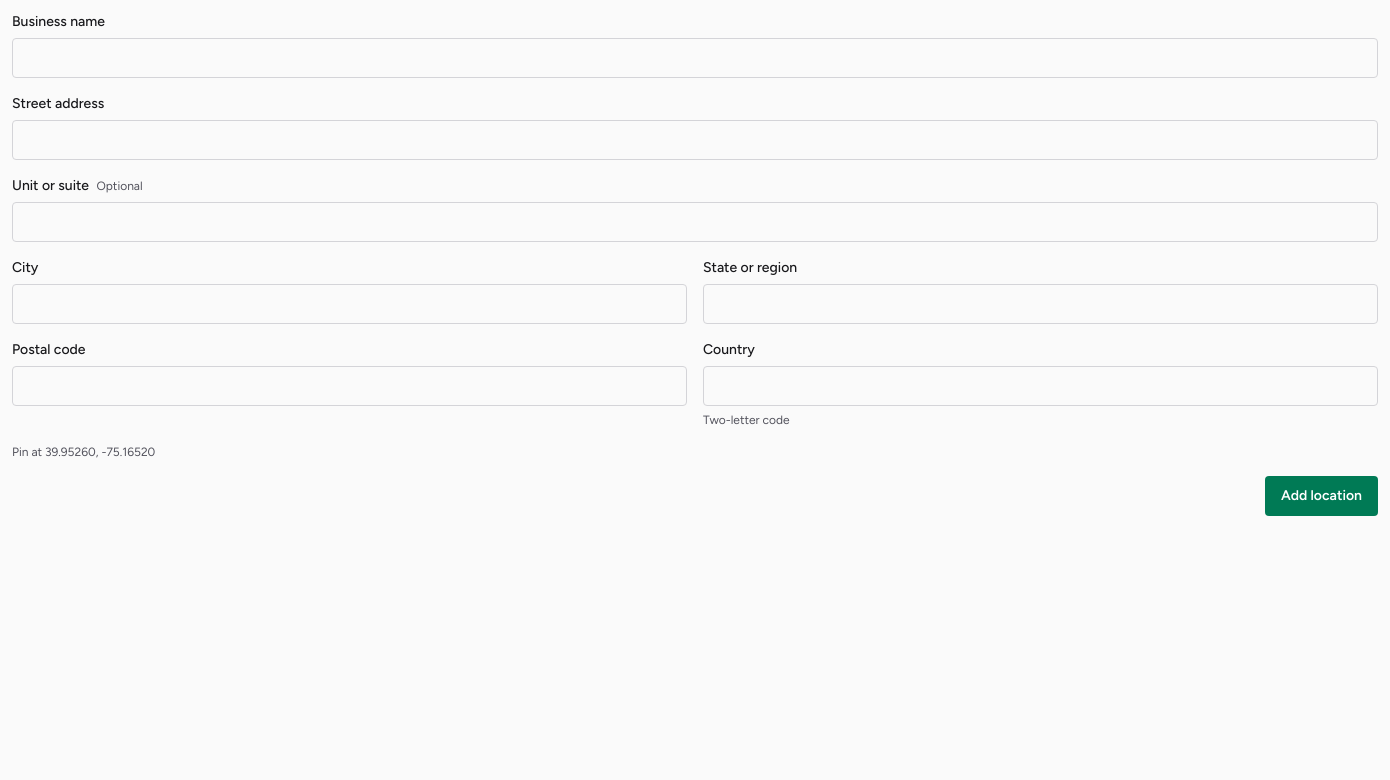
Test: surfaces a rejected submission as an error message
The width and height of the screenshot is (1390, 780).
What coordinates should you click on to do the following:
click the button "Add location"
I would click on:
 (1322, 496)
Its box is [1265,476,1378,516].
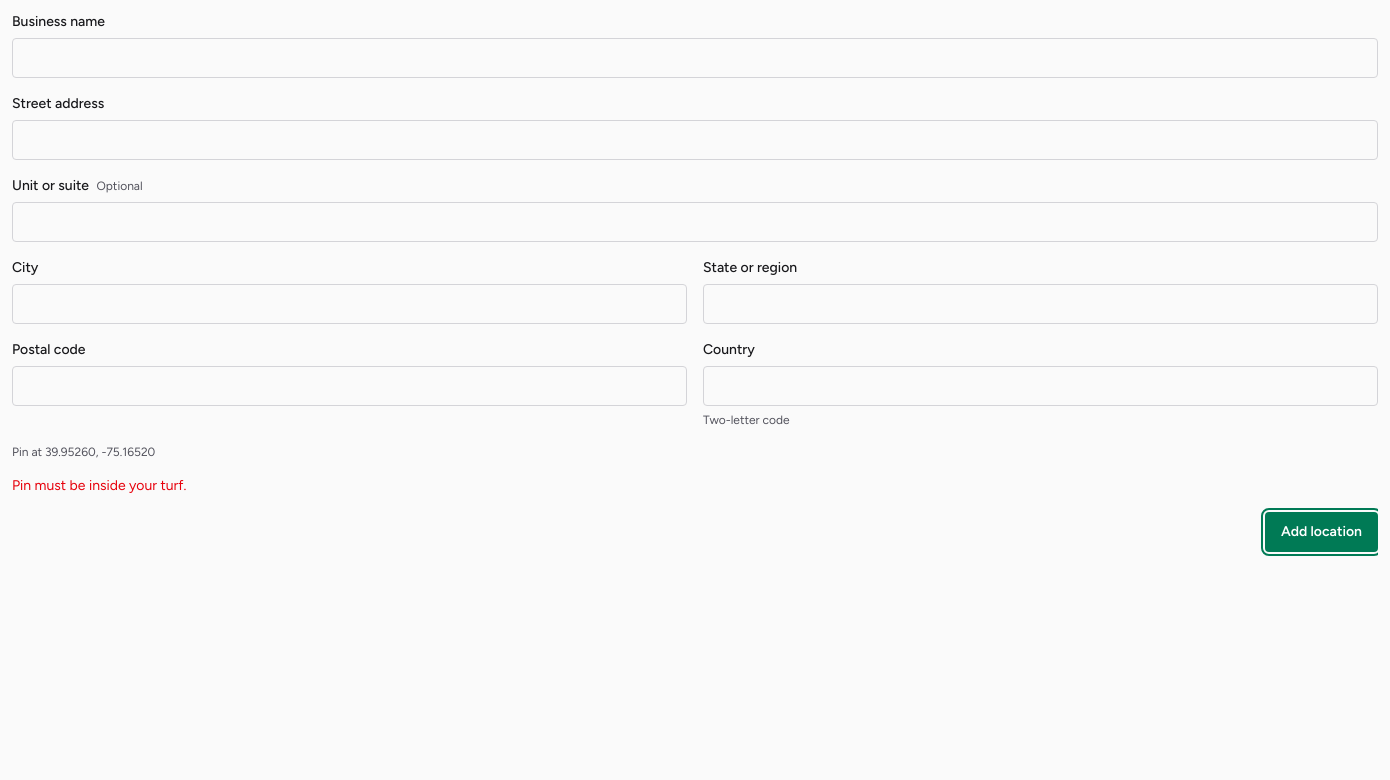
Check: the message reads "Pin must be inside your turf.", box [12,477,186,494]
